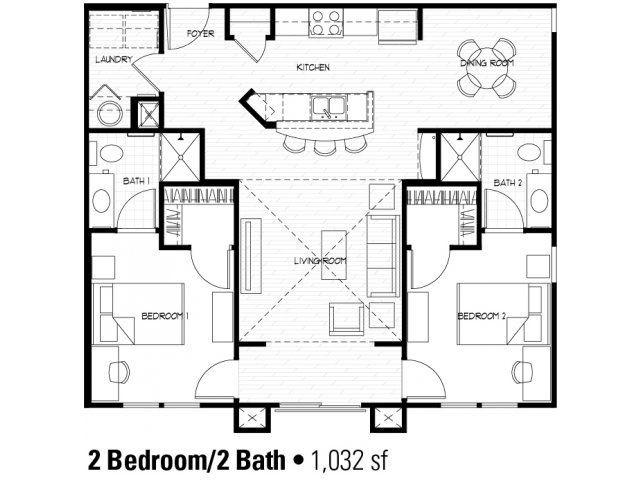door: (157, 3, 222, 58), (113, 172, 164, 241), (182, 236, 236, 298), (388, 354, 453, 403), (478, 177, 532, 234), (116, 43, 174, 95), (192, 346, 242, 405), (408, 242, 456, 294), (229, 31, 280, 68), (90, 74, 123, 106)
room: (160, 4, 558, 182), (162, 3, 551, 127), (81, 230, 236, 409), (233, 178, 400, 342), (406, 245, 556, 406), (439, 130, 554, 233), (238, 341, 405, 403), (87, 4, 169, 129), (82, 125, 161, 232), (160, 182, 237, 255), (406, 183, 479, 246)
wall: (72, 1, 96, 417), (544, 33, 567, 249), (390, 175, 413, 360), (204, 1, 560, 12), (227, 173, 247, 365), (415, 122, 561, 144), (543, 281, 566, 416), (76, 118, 211, 140), (154, 170, 250, 197), (189, 121, 214, 189), (360, 395, 441, 415), (74, 1, 172, 17), (400, 174, 485, 192), (154, 177, 172, 256), (470, 172, 486, 258), (198, 395, 280, 410), (432, 121, 450, 186), (225, 334, 278, 356), (371, 330, 414, 355), (518, 393, 563, 416), (125, 89, 146, 137), (153, 84, 172, 135), (154, 235, 194, 259), (406, 4, 428, 46), (261, 1, 281, 47), (153, 2, 170, 55), (449, 238, 499, 256), (83, 393, 124, 414), (127, 90, 174, 108), (215, 2, 235, 43)
window: (120, 391, 203, 425), (437, 395, 521, 427), (278, 394, 362, 419), (543, 241, 563, 287), (540, 7, 567, 38)
